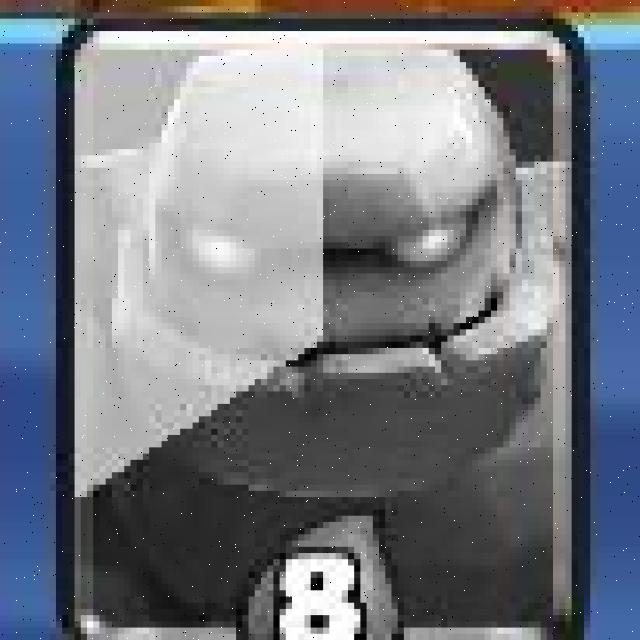Golem: (59, 18, 585, 640)
